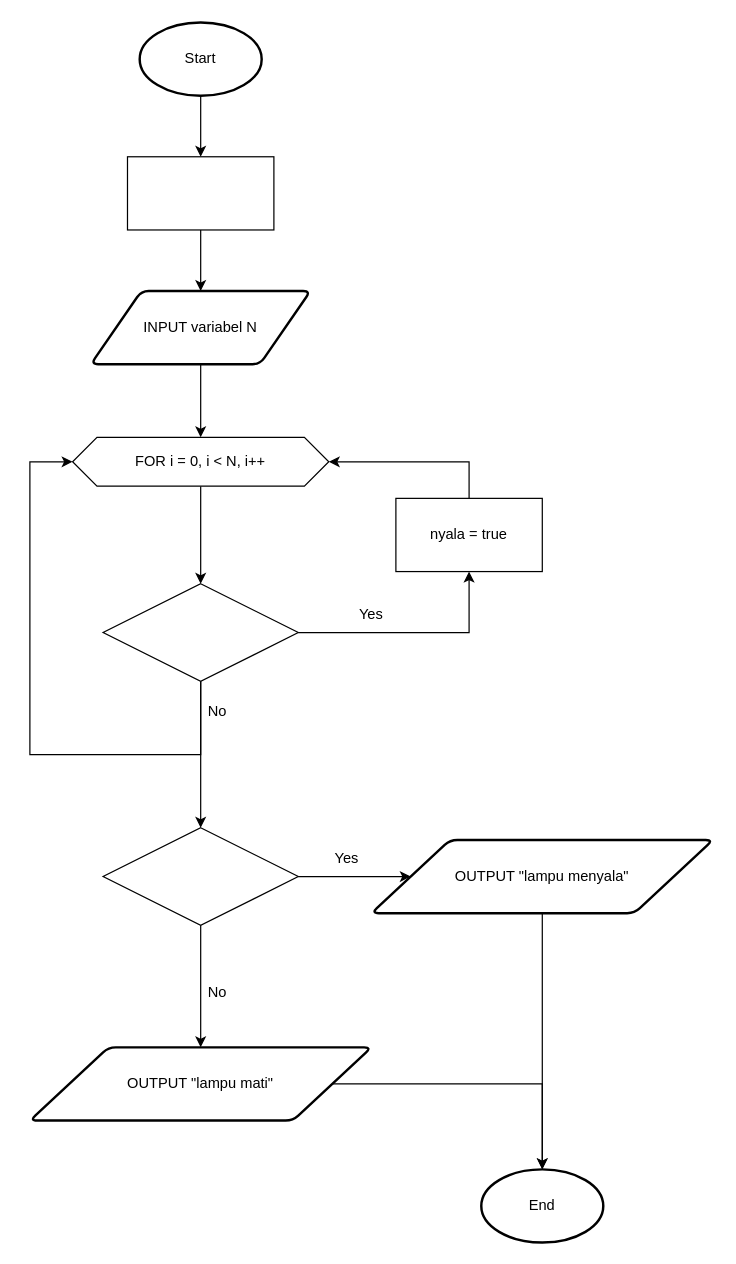
The diagram is 736 pixels wide and 1264 high, and some of its shapes have lost their labels. Here are the shapes that lost their labels. From the top down, the centre of each, then its label:
At point 200,193: "nyala = false".
At point 200,632: "IF N % 2 != 0".
At point 200,876: "IF nyala == true".
